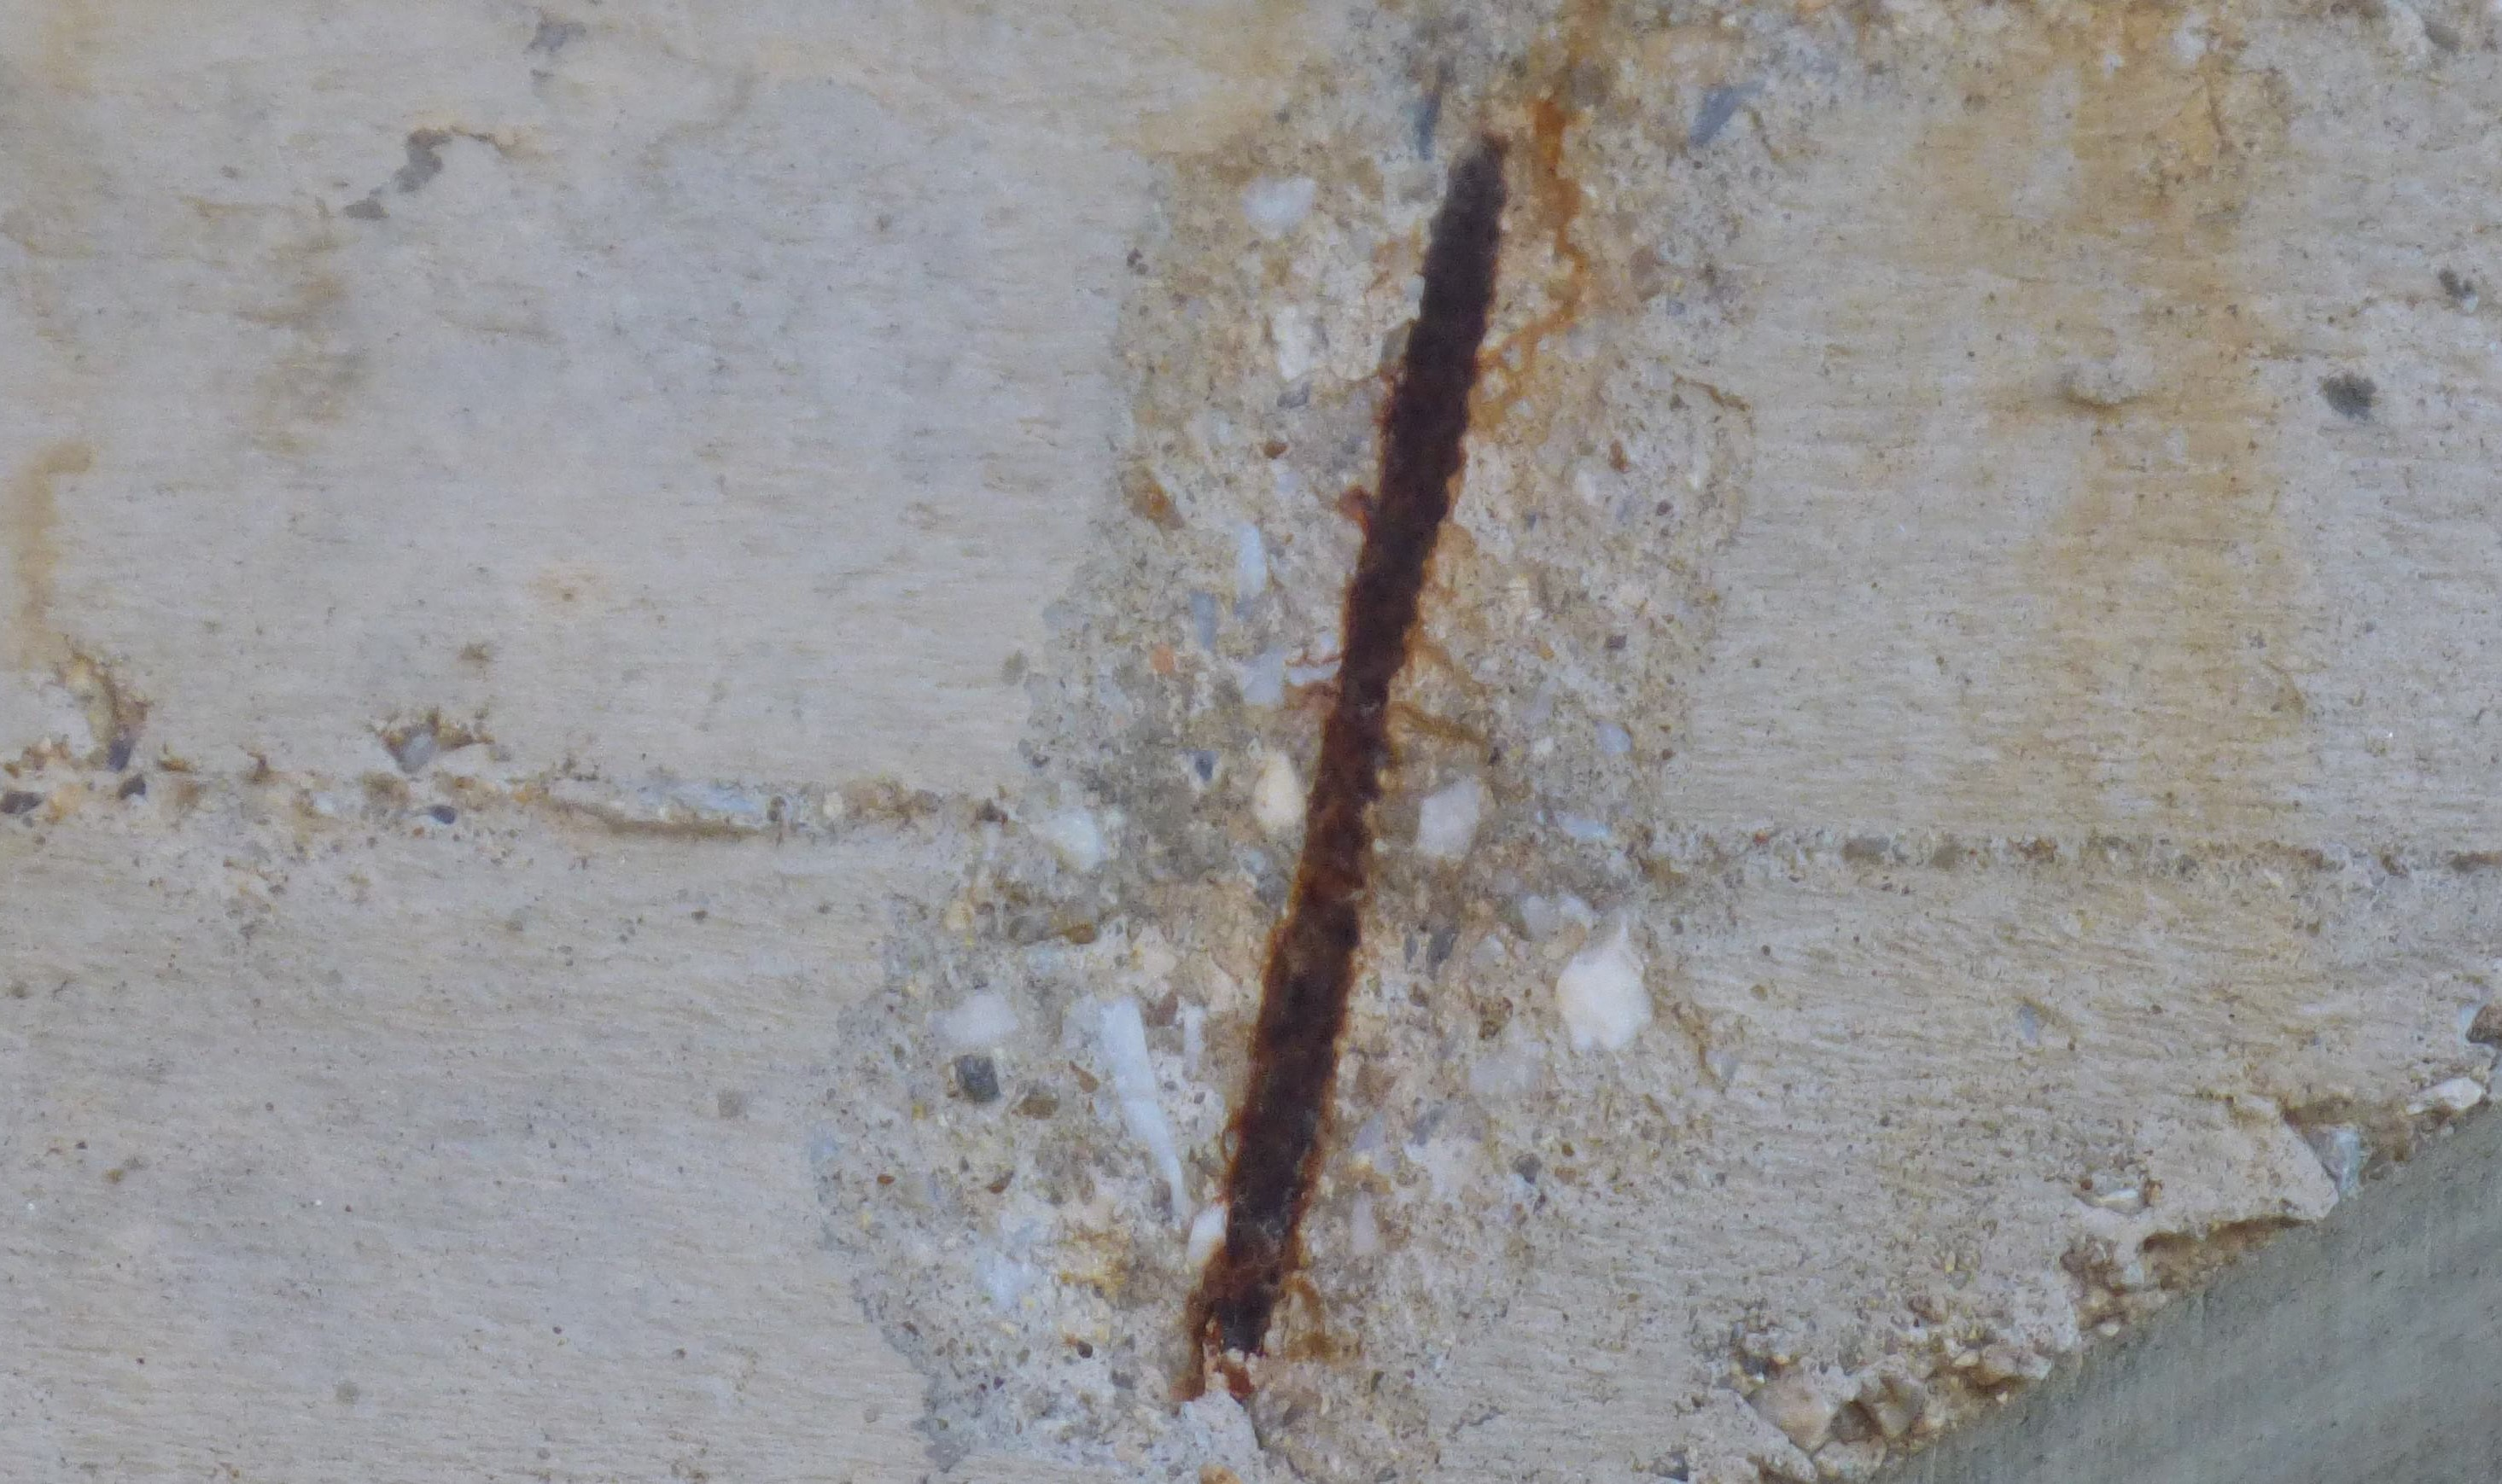Exposed reinforcement: (1187, 131, 1509, 1355)
Spalling: (795, 0, 1850, 1484)
